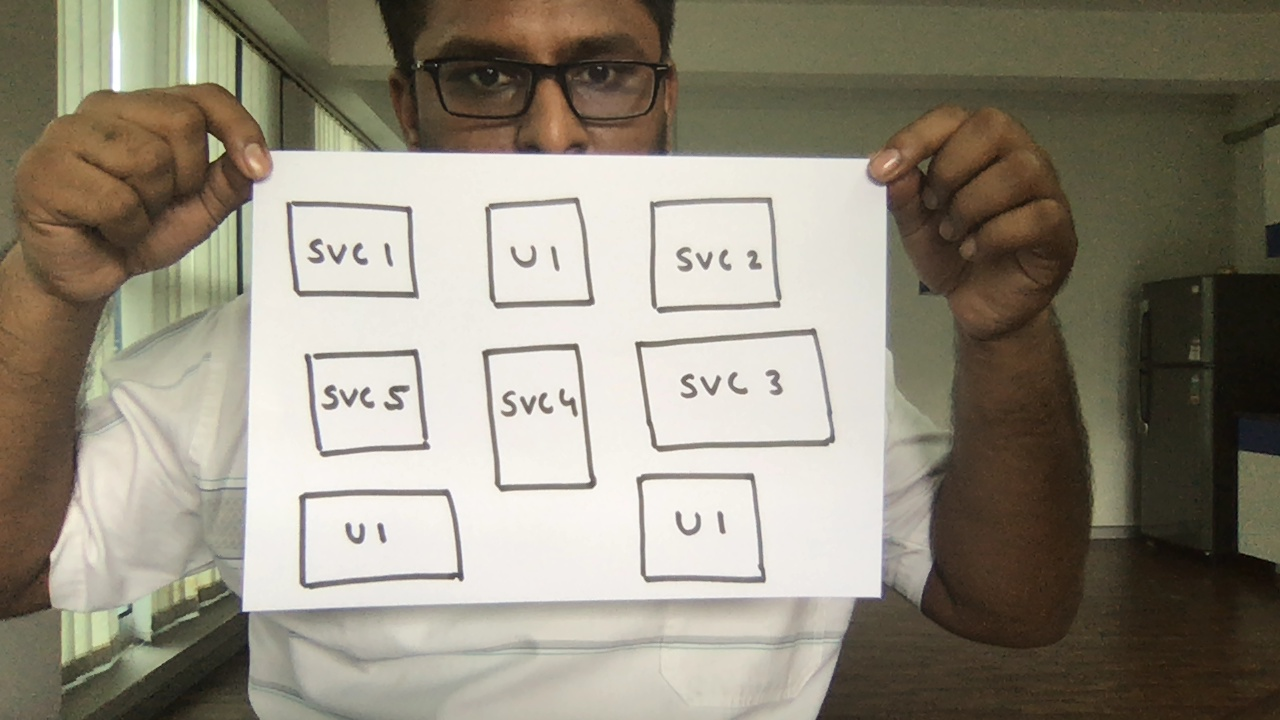ec2: (627, 328, 839, 453), (477, 342, 600, 495), (643, 194, 785, 315), (280, 196, 425, 307), (303, 346, 436, 456)
ui: (295, 487, 467, 590), (633, 470, 769, 588), (482, 195, 597, 311)
